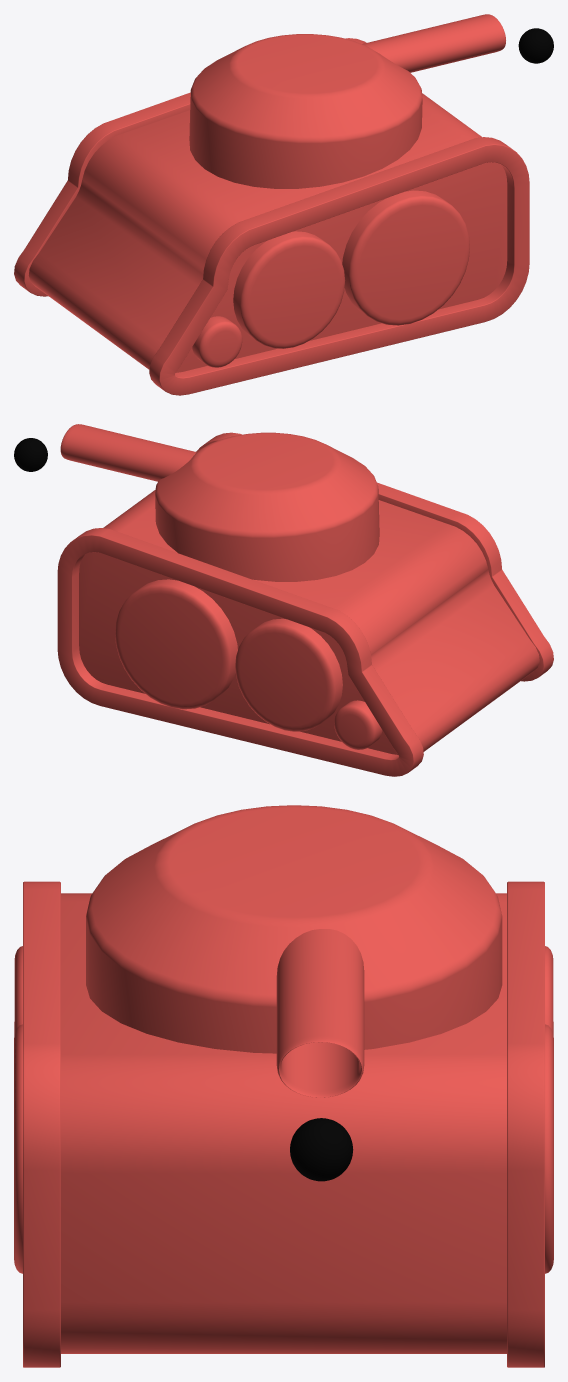
Rendered from tank.glb.
3 renders of one model, top to bottom at view 1: azimuth 30°, elevation 25°; view 2: azimuth 150°, elevation 25°; view 3: azimuth 270°, elevation 25°, orthographic. The views are drawn at different scales.
Visible parts, largest first — view 1: Cylinder, Cylinder.004, Sphere; view 2: Cylinder, Cylinder.004, Sphere; view 3: Cylinder, Cylinder.004, Sphere.
Boxes of the visible parts, bbox=[...] form: Cylinder: bbox=[14, 38, 529, 395]; Cylinder.004: bbox=[189, 14, 505, 188]; Sphere: bbox=[518, 28, 553, 63]; Cylinder: bbox=[57, 432, 553, 776]; Cylinder.004: bbox=[60, 424, 379, 581]; Sphere: bbox=[14, 438, 47, 471]; Cylinder: bbox=[14, 881, 553, 1367]; Cylinder.004: bbox=[86, 805, 502, 1097]; Sphere: bbox=[290, 1118, 353, 1181].
Bounding box in the file's own units: 2.52 × 1.16 × 1.39.
